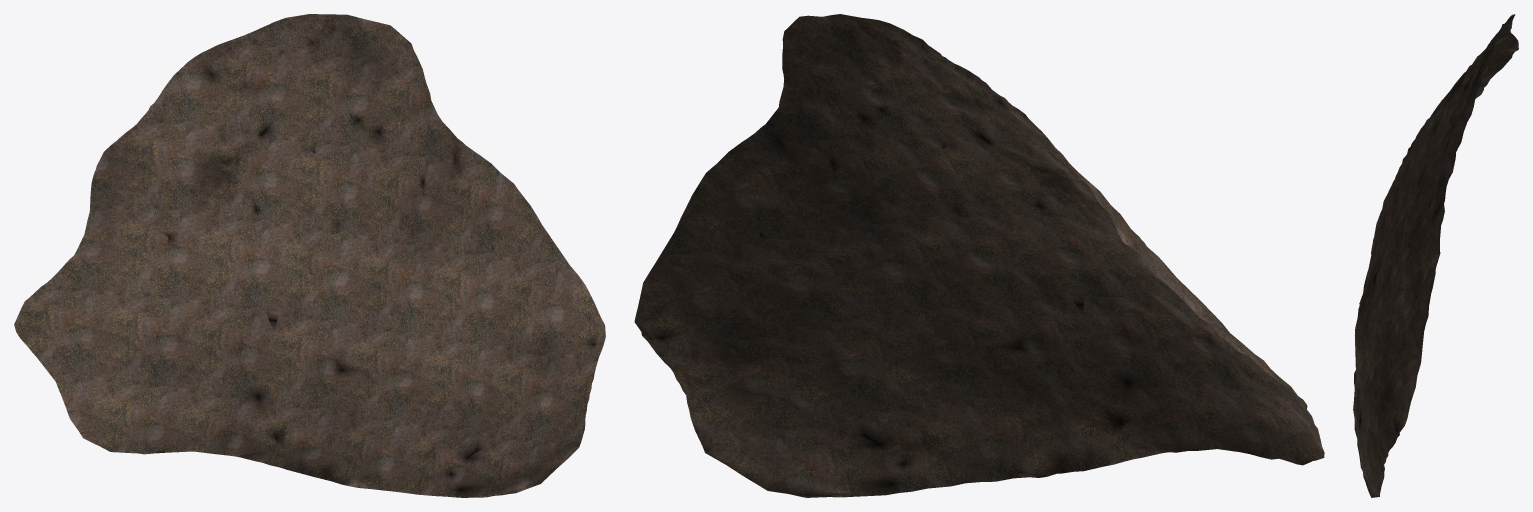
The model's file is zemlja.glb.
3 renders of one model, left to right at view 1: azimuth 30°, elevation 25°; view 2: azimuth 150°, elevation 25°; view 3: azimuth 270°, elevation 25°, orthographic. The views are drawn at different scales.
Visible parts, largest first — view 1: Background_Tree_Atlas.008_Ground_Dirt_0; view 2: Background_Tree_Atlas.008_Ground_Dirt_0; view 3: Background_Tree_Atlas.008_Ground_Dirt_0.
Boxes of the visible parts, x1,y1,x2,y2 form: Background_Tree_Atlas.008_Ground_Dirt_0: [14, 14, 605, 497]; Background_Tree_Atlas.008_Ground_Dirt_0: [634, 14, 1324, 497]; Background_Tree_Atlas.008_Ground_Dirt_0: [1353, 14, 1518, 497].
Bounding box in the file's own units: 67.85 × 53.53 × 20.36.
Materials: 1 (1 with a texture image).
